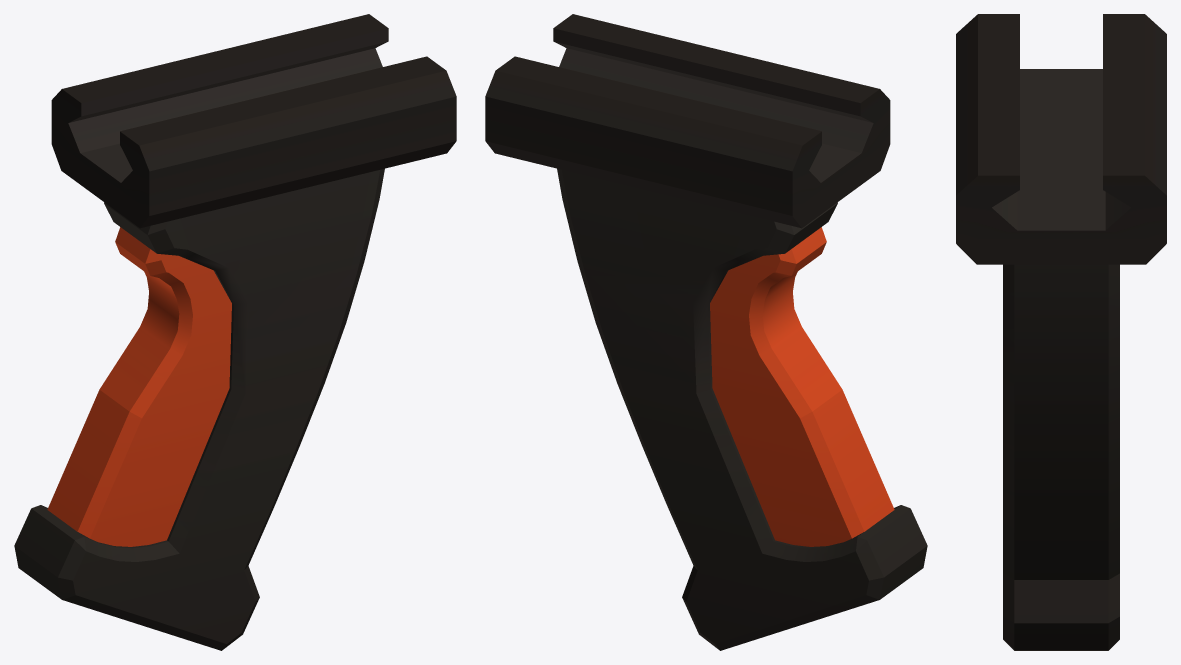
File: SMG12_Handle.fbx
3 views of the same model, side by side, from view 1: azimuth 30°, elevation 25°; view 2: azimuth 150°, elevation 25°; view 3: azimuth 270°, elevation 25° (orthographic). The views are drawn at different scales.
Parts seen in each view (by area): view 1: SMG12_Handle; view 2: SMG12_Handle; view 3: SMG12_Handle.
Part boxes in pixels (<box>): SMG12_Handle: <box>14,14,456,650</box>; SMG12_Handle: <box>485,14,927,650</box>; SMG12_Handle: <box>956,14,1166,650</box>.
Size of the model in its own units: 8.57 by 11.93 by 3.9.
